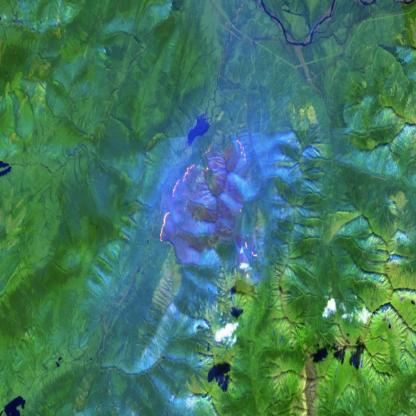fire: (157, 134, 263, 281)
